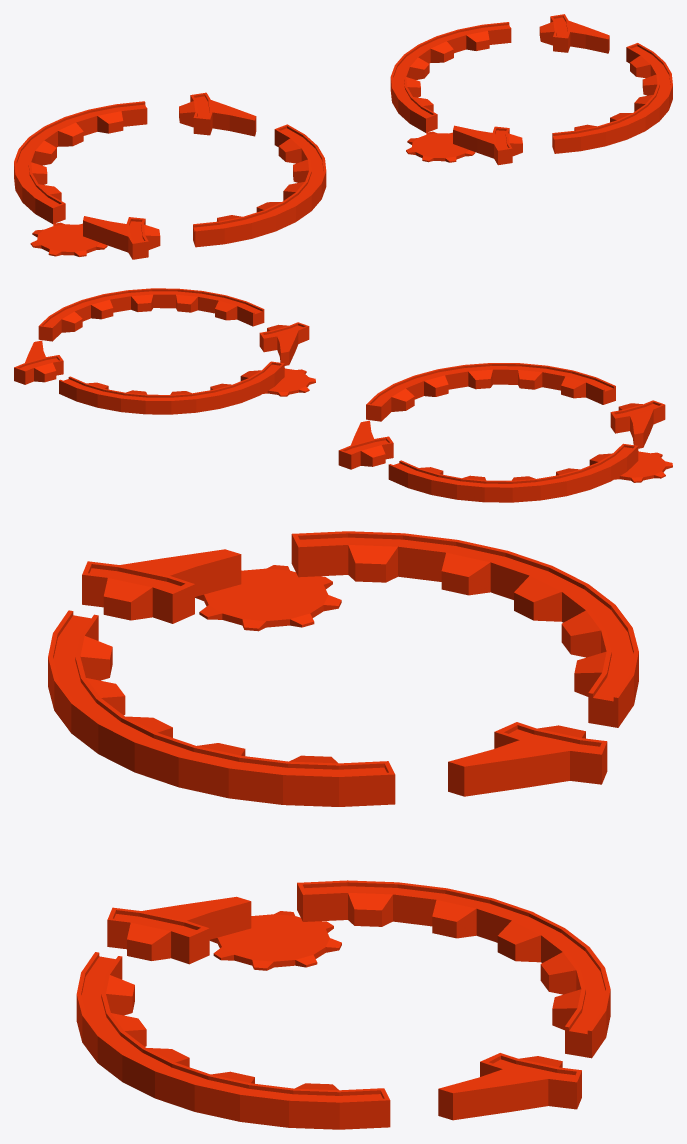
File: 3d_clock_orange.obj
The picture shows the model from 3 angles, top to bottom: view 1: azimuth 30°, elevation 25°; view 2: azimuth 150°, elevation 25°; view 3: azimuth 270°, elevation 25°; orthographic projection. The views are drawn at different scales.
Parts seen in each view (by area): view 1: GearDefault.022, GearDefault.001; view 2: GearDefault.022, GearDefault.001; view 3: GearDefault.022, GearDefault.001.
Boxes of the visible parts, box(x1,y1,x2,y2) form: GearDefault.022: box(14, 92, 326, 259); GearDefault.001: box(390, 14, 672, 165); GearDefault.022: box(338, 363, 672, 502); GearDefault.001: box(14, 288, 315, 414); GearDefault.022: box(48, 531, 638, 806); GearDefault.001: box(76, 880, 610, 1129).
Size of the model in its own units: 0.1994 by 0.0092 by 0.0849.
